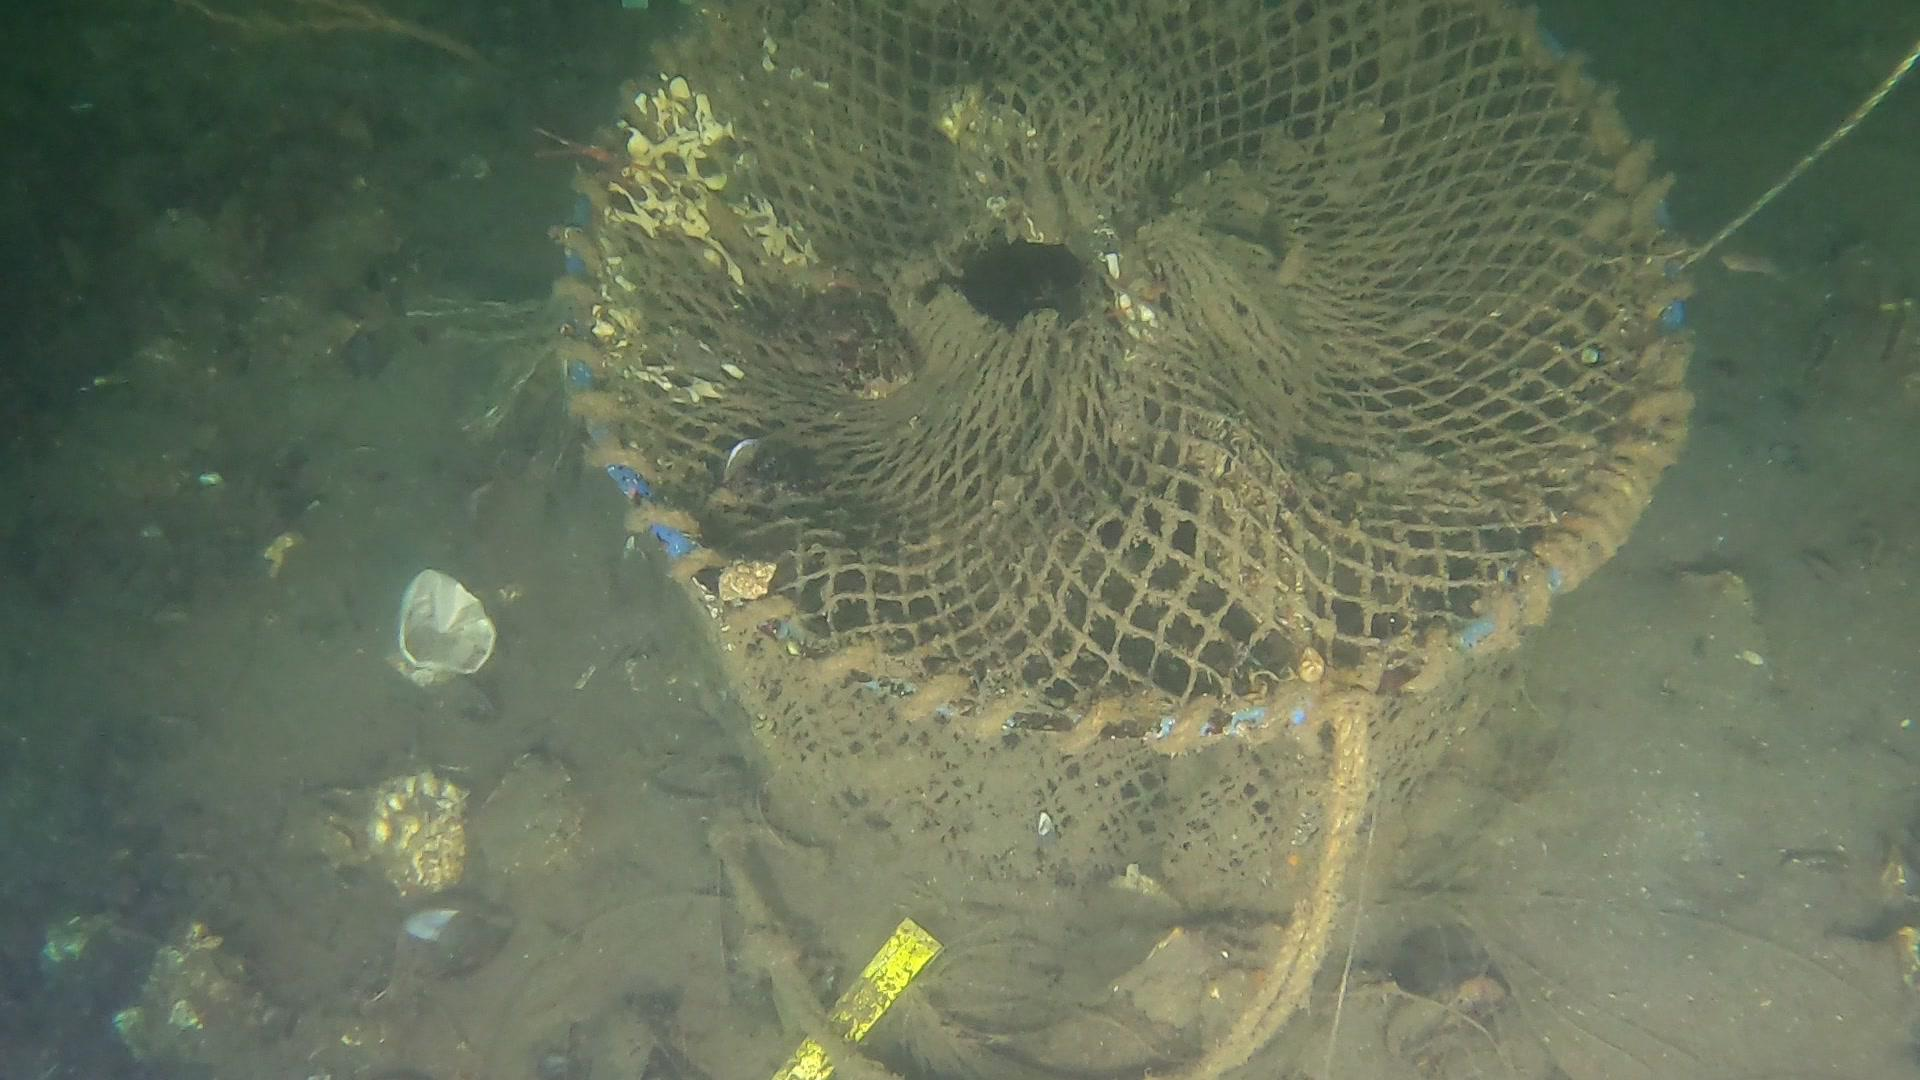bundle of ropes: (1141, 705, 1370, 1080)
circular fish trap: (541, 0, 1702, 927)
rope: (1677, 42, 1920, 264)
